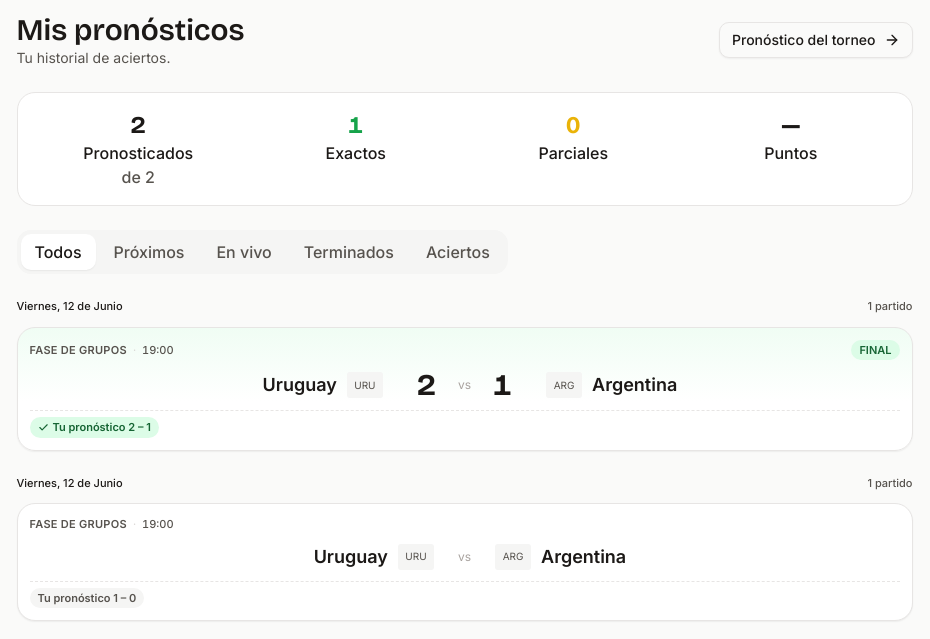
Test: MyPredictionsPage › filters by match status
Check: the text "Tu pronóstico 2 – 1" is shown 2 times, box [30,417,159,438]; [30,588,144,608]
Click the button "Próximos".
click(149, 252)  # box [100,234,198,270]
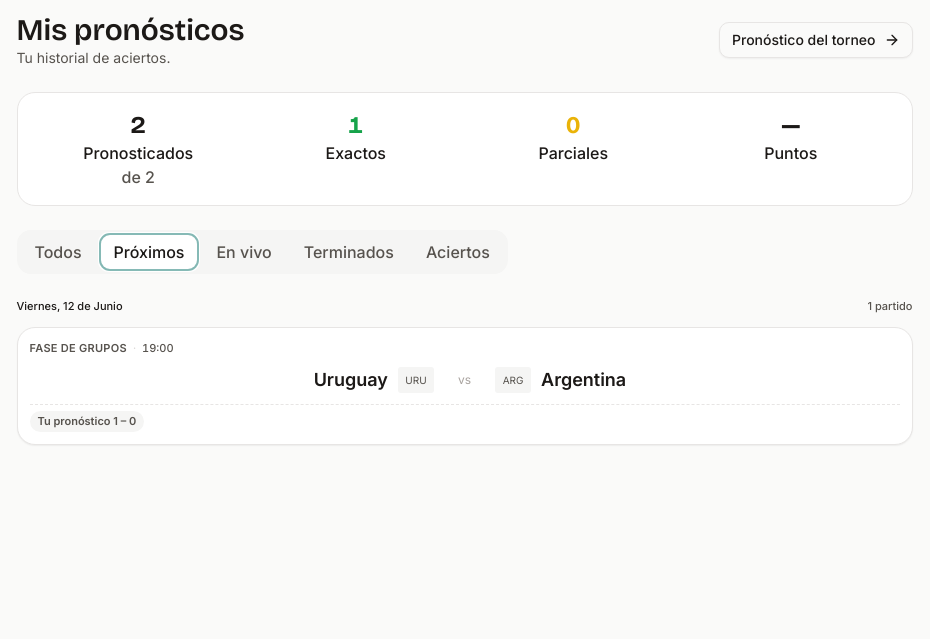
Check: the text "Tu pronóstico 1 – 0" is shown once, box [30,411,144,432]
Click the button "Aciertos".
click(458, 252)  # box [412,234,504,270]
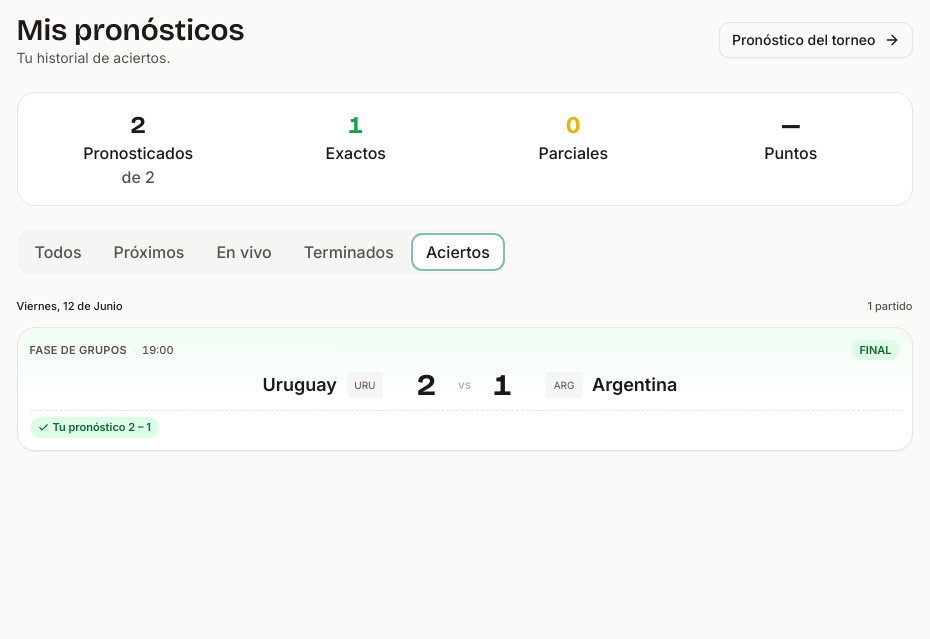
Check: the text "Tu pronóstico 2 – 1" is shown once, box [30,417,159,438]
Click the button "En vivo".
click(244, 252)  # box [202,234,286,270]
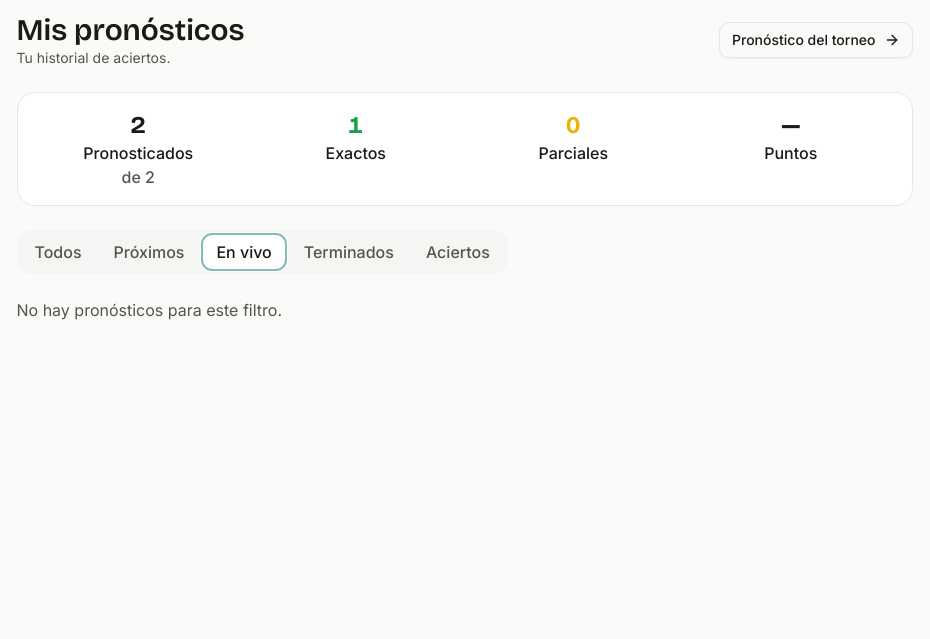
Check: the text "Tu pronóstico" is gone
Check: the text "No hay pronósticos para este filtro." is shown, box [16,300,282,320]
